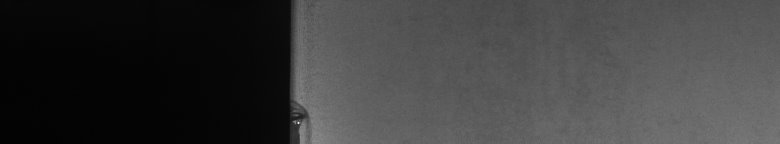hb: (300, 100, 317, 136)
